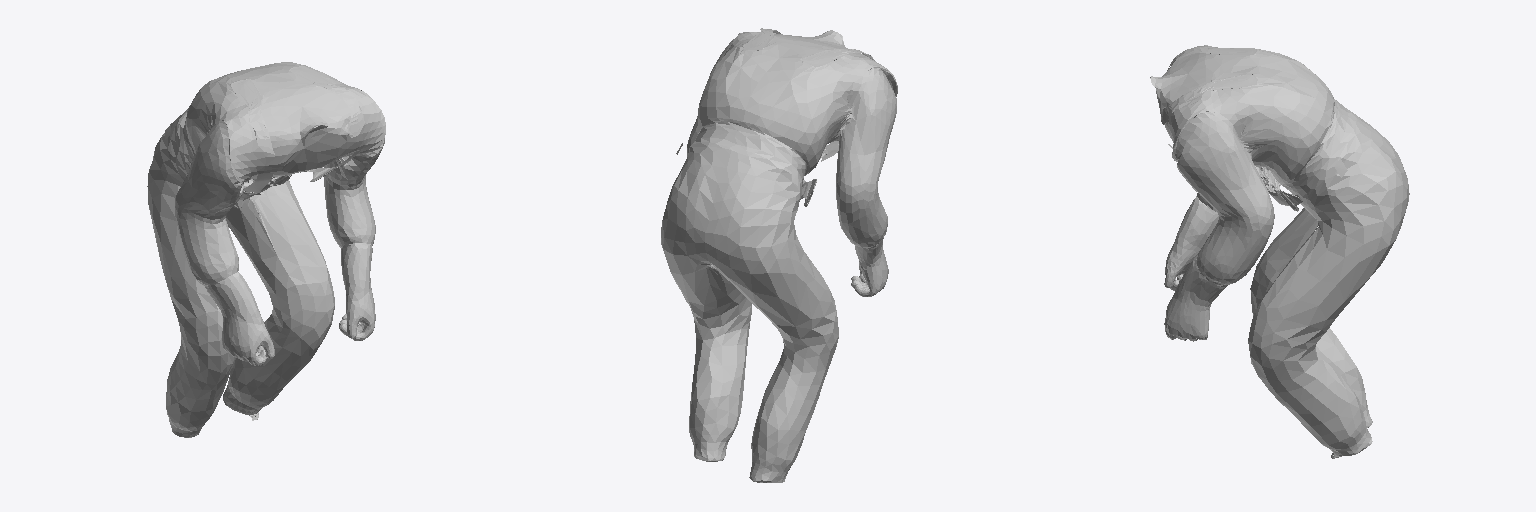
The model's file is GTR_Driver3SmoothBody.obj.
The picture shows the model from 3 angles: view 1: azimuth 30°, elevation 25°; view 2: azimuth 150°, elevation 25°; view 3: azimuth 270°, elevation 25°; orthographic projection.
Visible parts, largest first — view 1: Object.1; view 2: Object.1; view 3: Object.1.
Boxes of the visible parts, x1,y1,x2,y2 form: Object.1: [147, 62, 385, 437]; Object.1: [661, 28, 897, 482]; Object.1: [1150, 45, 1409, 458].
Size of the model in its own units: 12.95 by 25.52 by 15.65.